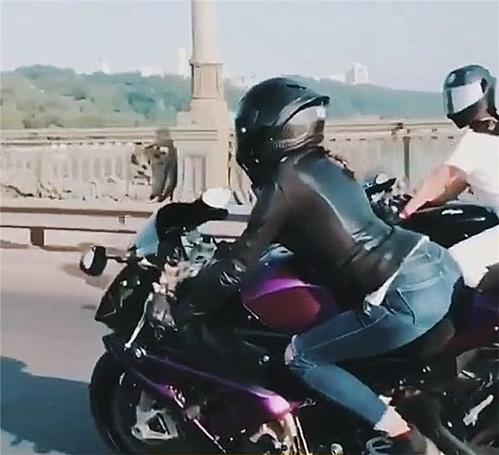motor: (78, 200, 492, 455)
